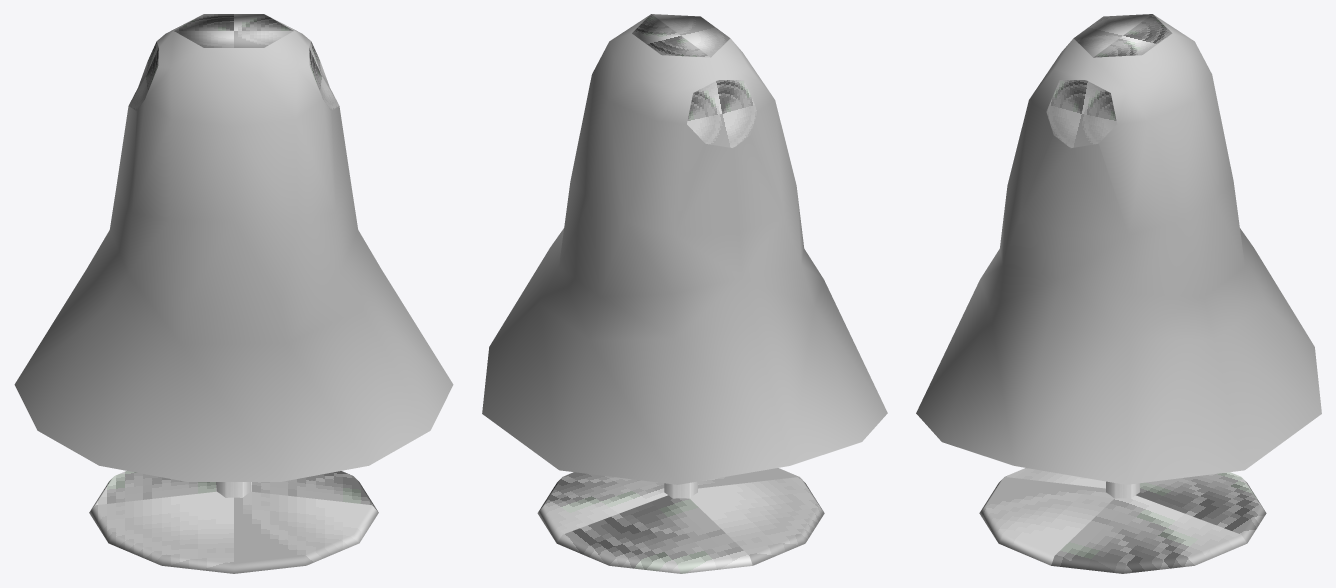
The model's file is mq_tops_onpN_grc.dae.
The picture shows the model from 3 angles, left to right: view 1: azimuth 30°, elevation 25°; view 2: azimuth 150°, elevation 25°; view 3: azimuth 270°, elevation 25°; orthographic projection.
Visible parts, largest first — view 1: mq_tops_onpN_grc; view 2: mq_tops_onpN_grc; view 3: mq_tops_onpN_grc.
Boxes of the visible parts, x1,y1,x2,y2 form: mq_tops_onpN_grc: (14,14,453,573); mq_tops_onpN_grc: (482,14,887,573); mq_tops_onpN_grc: (916,14,1321,573).
Size of the model in its own units: 25.83 by 31.18 by 24.02.
2 materials, 2 textured.
